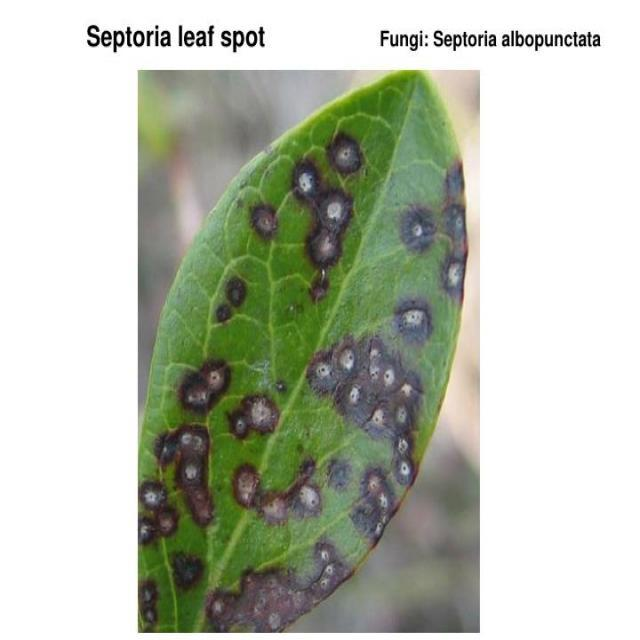Tomato Septoria spot leaf: (140, 75, 470, 622)
